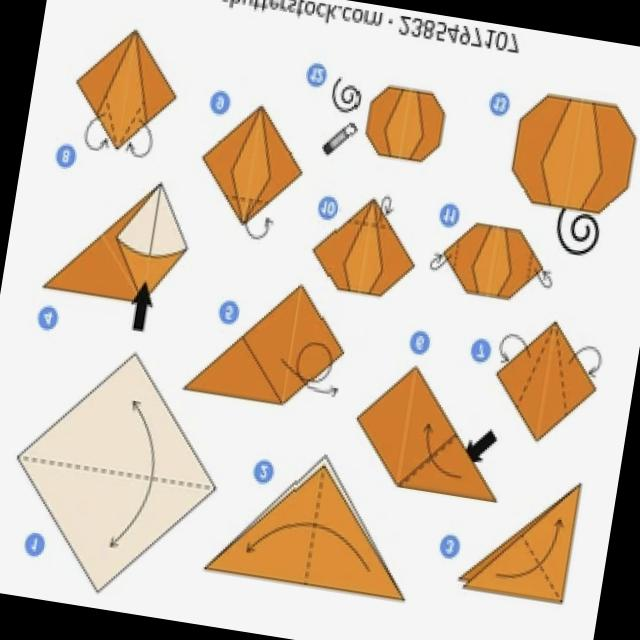arrow: (111, 400, 156, 547), (247, 520, 370, 571), (497, 520, 562, 579), (281, 342, 338, 396), (424, 423, 460, 477), (132, 282, 153, 330), (570, 345, 603, 375), (466, 429, 496, 461), (127, 123, 154, 156), (500, 333, 530, 361), (84, 117, 108, 149), (246, 217, 273, 239), (305, 381, 338, 396), (431, 253, 447, 269), (382, 194, 393, 215), (539, 270, 552, 287)
fold-line: (13, 452, 222, 498), (396, 428, 463, 491), (298, 460, 330, 591), (518, 532, 570, 606), (393, 361, 423, 488), (560, 96, 589, 210), (279, 285, 306, 404), (99, 229, 144, 297), (354, 200, 380, 296), (484, 224, 506, 302), (118, 102, 145, 146), (398, 86, 414, 160), (342, 216, 398, 236), (224, 192, 272, 210), (141, 252, 156, 298), (106, 96, 119, 145)
